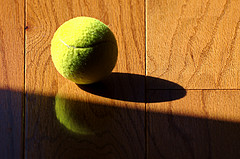tennis ball: (49, 15, 119, 86)
